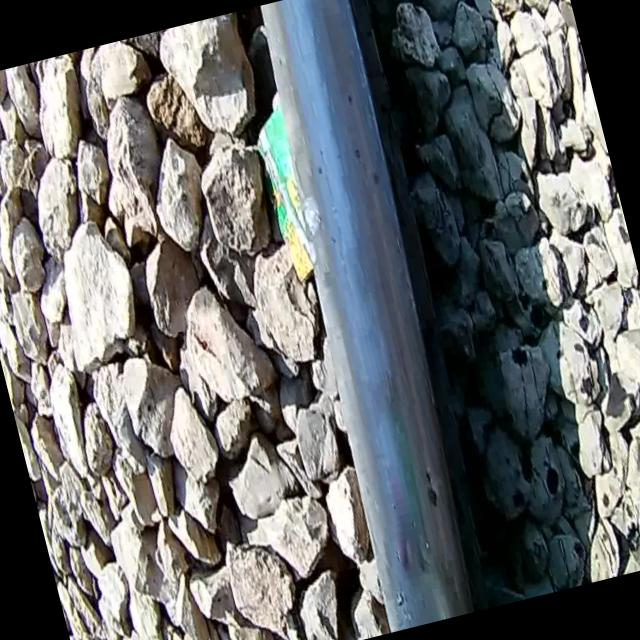Spallings: (282, 0, 504, 621)
Squats: (293, 0, 371, 109), (374, 506, 436, 598)
